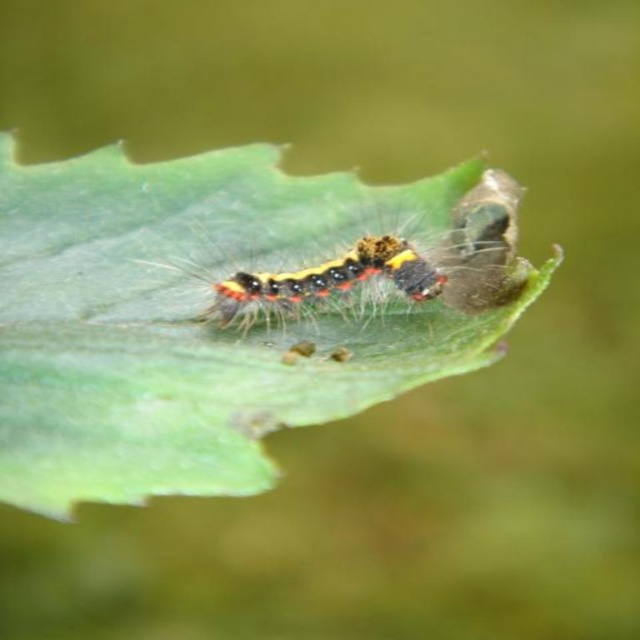Caterpillar: (117, 186, 509, 325)
